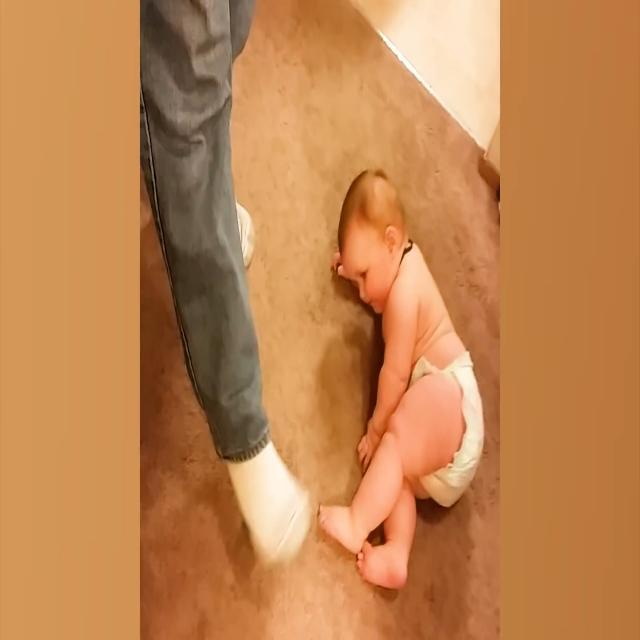child: (318, 162, 486, 599)
